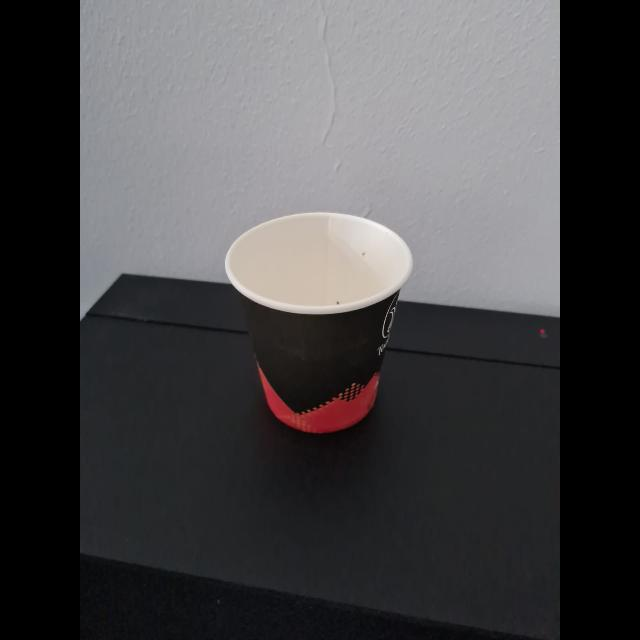trash: (225, 210, 418, 436)
